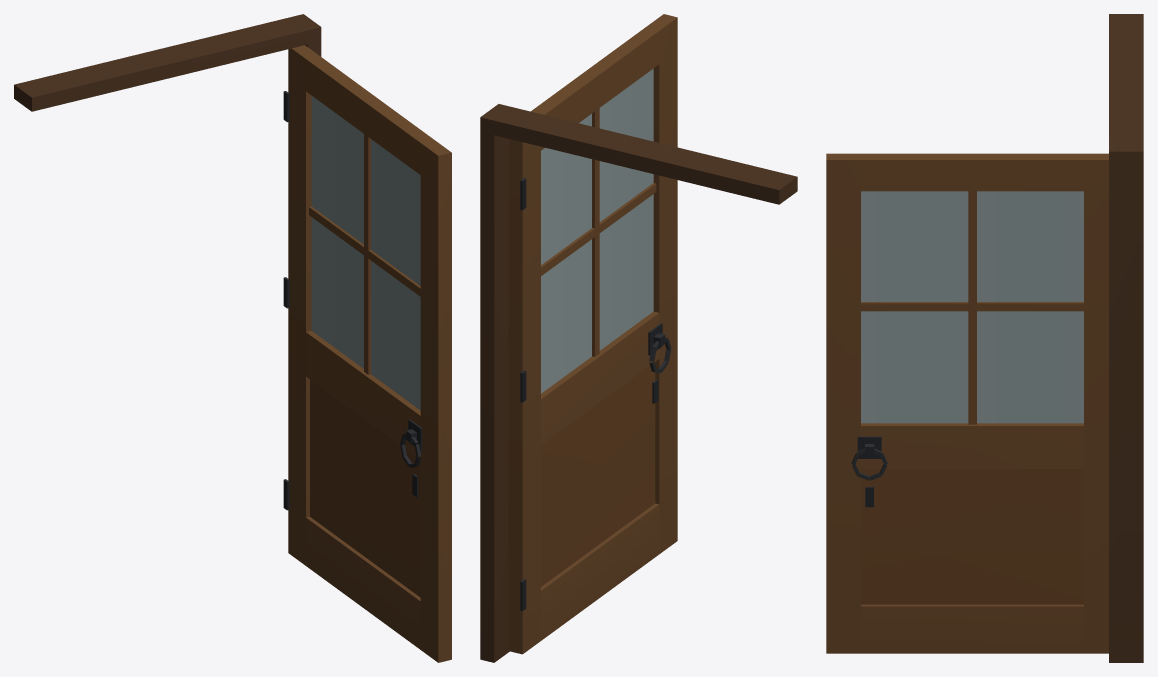
Rendered from door.oak_slim_open_pair_left.glazed.glb.
The picture shows the model from 3 angles, left to right: view 1: azimuth 30°, elevation 25°; view 2: azimuth 150°, elevation 25°; view 3: azimuth 270°, elevation 25°; orthographic projection. The views are drawn at different scales.
Parts seen in each view (by area): view 1: door_oak_slim_open_pair_left_glazed; view 2: door_oak_slim_open_pair_left_glazed; view 3: door_oak_slim_open_pair_left_glazed.
Part boxes in pixels (x1,y1,x2,y2): door_oak_slim_open_pair_left_glazed: (14, 14, 451, 662); door_oak_slim_open_pair_left_glazed: (480, 14, 797, 662); door_oak_slim_open_pair_left_glazed: (826, 14, 1143, 662).
Size of what is drawn, in the model's own units: 1.5 by 2.6 by 1.46.
